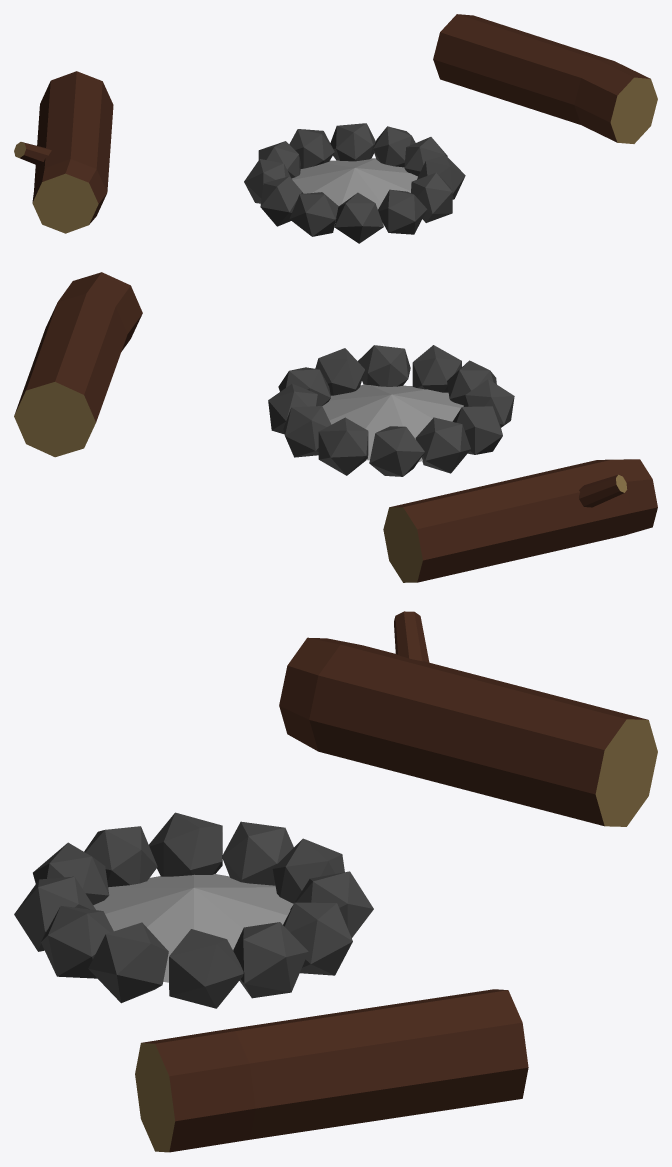
Rendered from Fireplace1.dae.
The picture shows the model from 3 angles, top to bottom: view 1: azimuth 30°, elevation 25°; view 2: azimuth 150°, elevation 25°; view 3: azimuth 270°, elevation 25°; orthographic projection. The views are drawn at different scales.
Parts seen in each view (by area): view 1: Fireplace1; view 2: Fireplace1; view 3: Fireplace1.
Boxes of the visible parts, left/top/right/bottom form: Fireplace1: left=14, top=14, right=657, bottom=243; Fireplace1: left=14, top=272, right=657, bottom=582; Fireplace1: left=14, top=611, right=657, bottom=1152.
Size of the model in its own units: 11.02 by 6.6 by 1.42.
